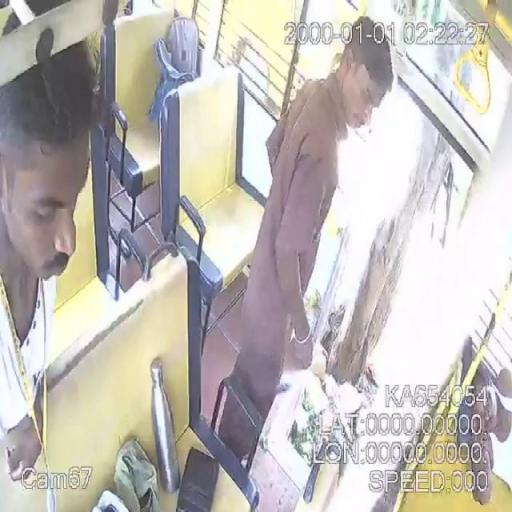persona: (222, 14, 396, 429), (1, 21, 99, 494)
